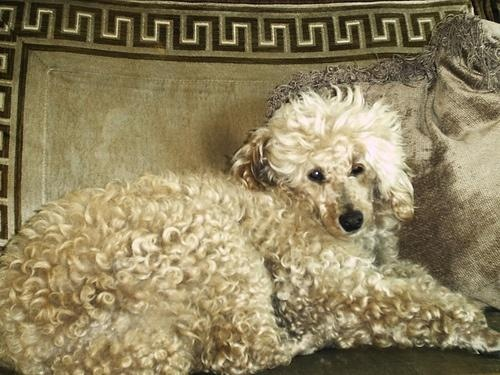dog: (5, 96, 493, 370)
